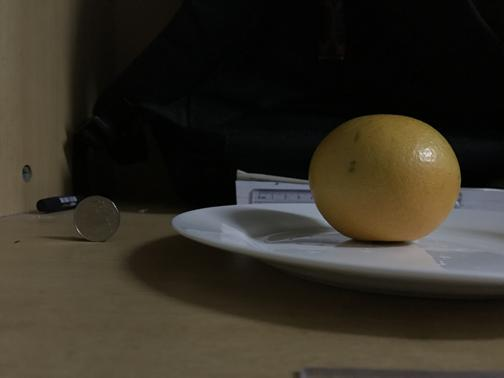coin: (71, 197, 120, 243)
orange: (308, 115, 462, 243)
